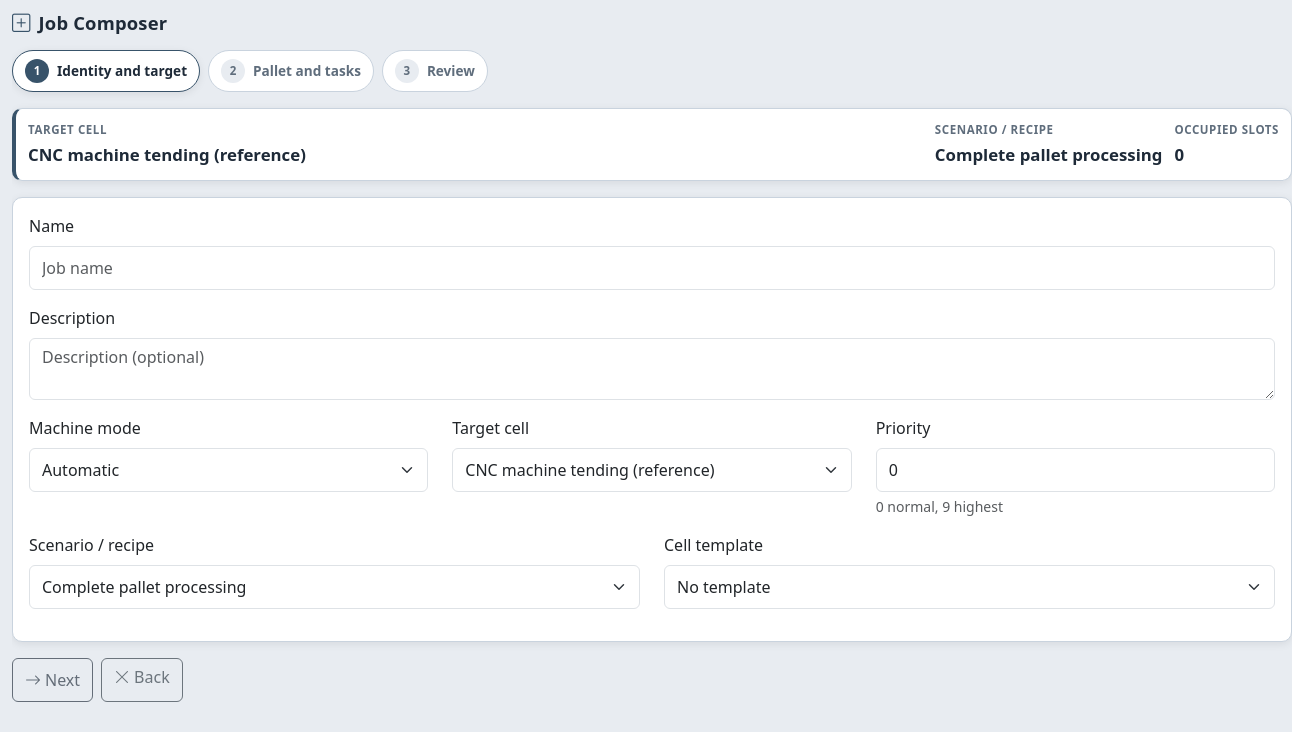
Test: NewJobView job composer › blocks submission and shows actionable errors for an invalid definition
Type "Composed job" into the field with test id "composer-name" at (652, 268), box [29,246,1275,290]
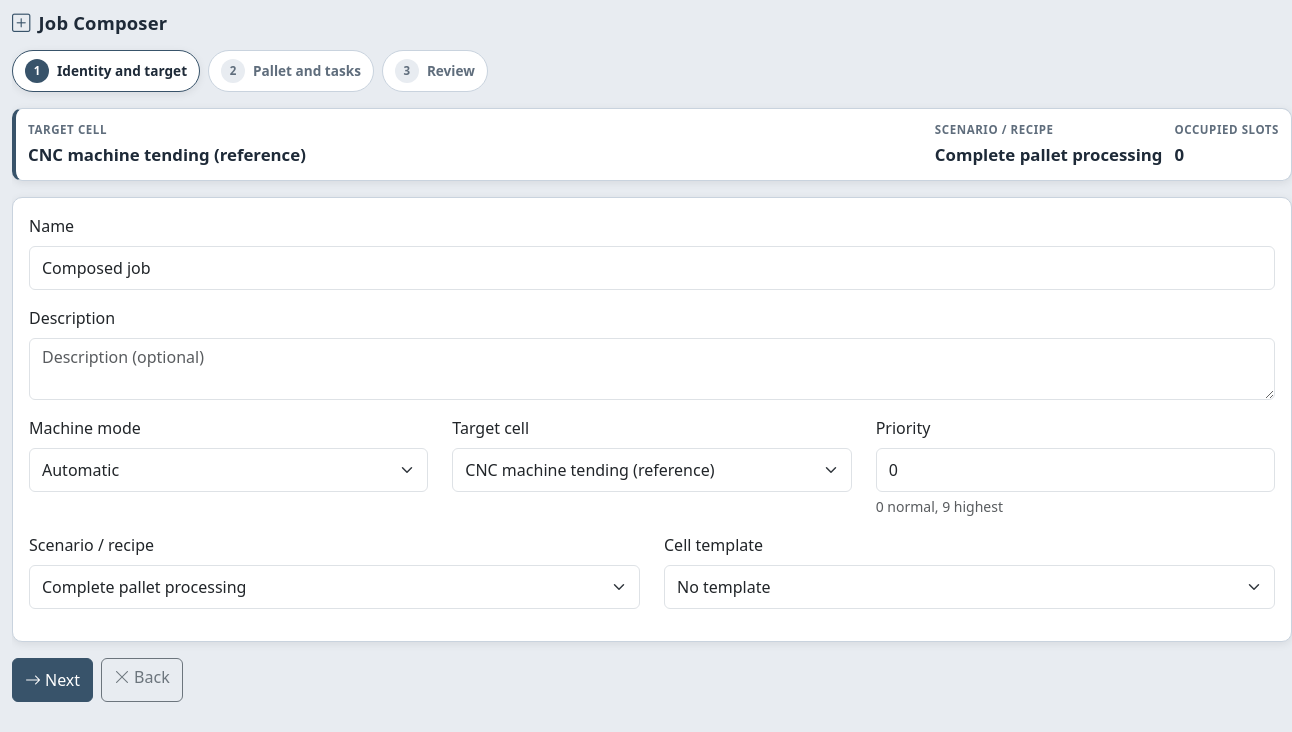
Click the button with test id "composer-next" at (53, 680), box [12,658,93,702]
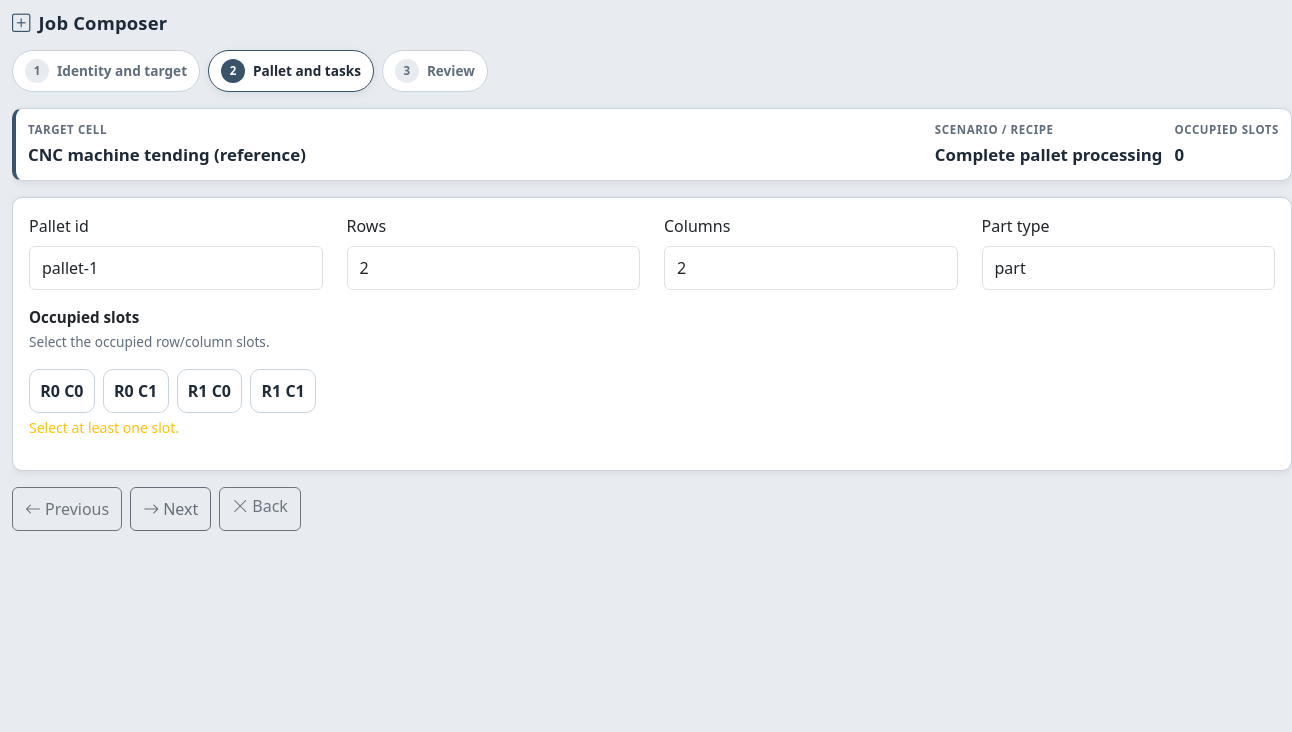
Click the button with test id "composer-slot-0-0" at (62, 391), box [29,369,95,413]
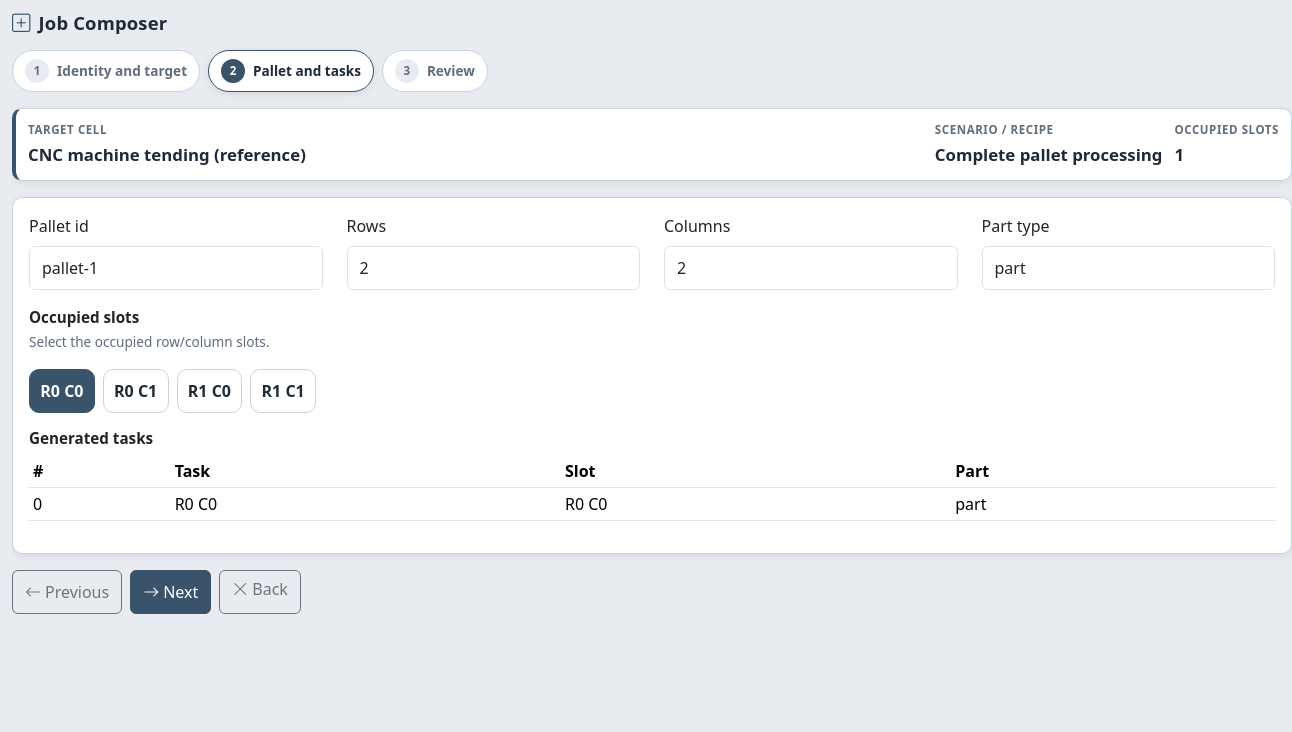
Click the button with test id "composer-next" at (171, 592), box [130,570,211,614]
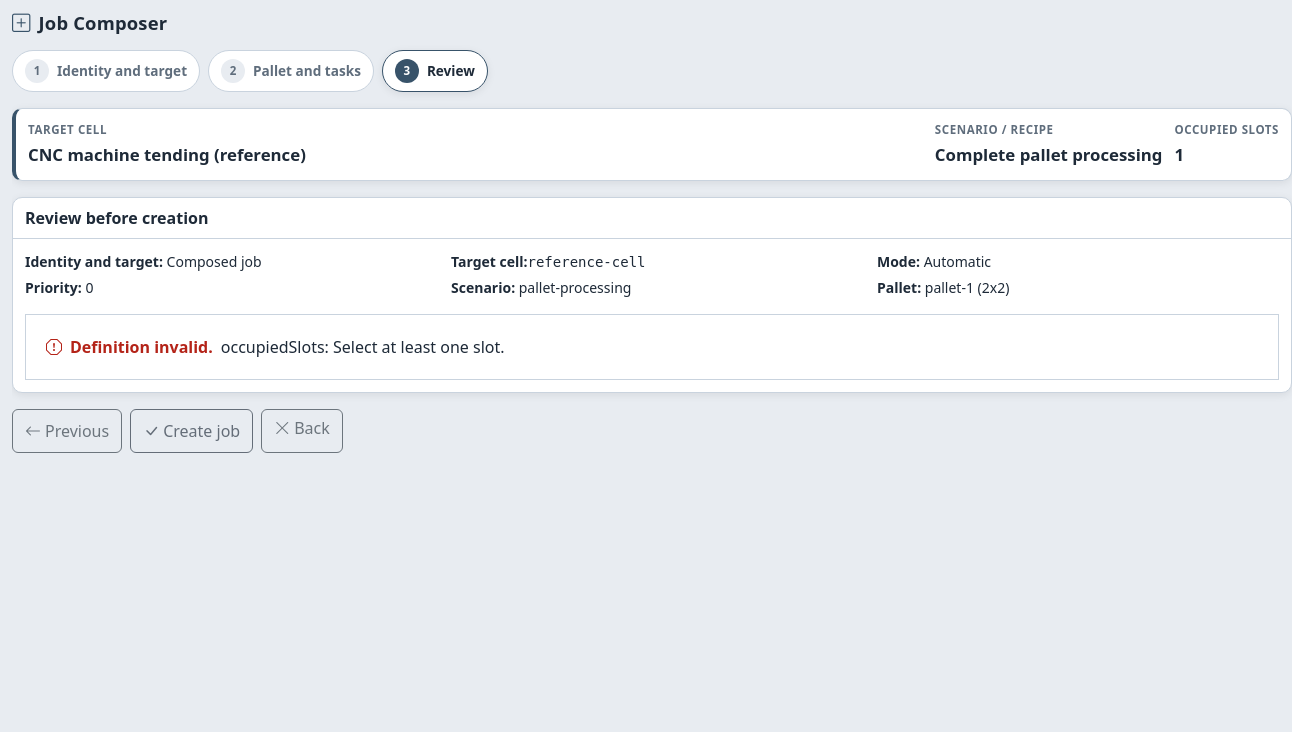
Expected: the button with test id "composer-submit" is disabled, [130,408,253,452]
Expected: the text "Select at least one slot." is shown, [221,336,505,358]
